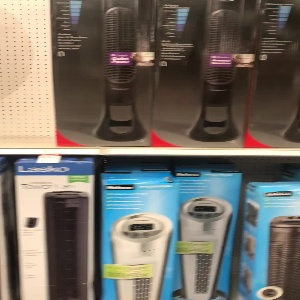void: (1, 1, 55, 148)
